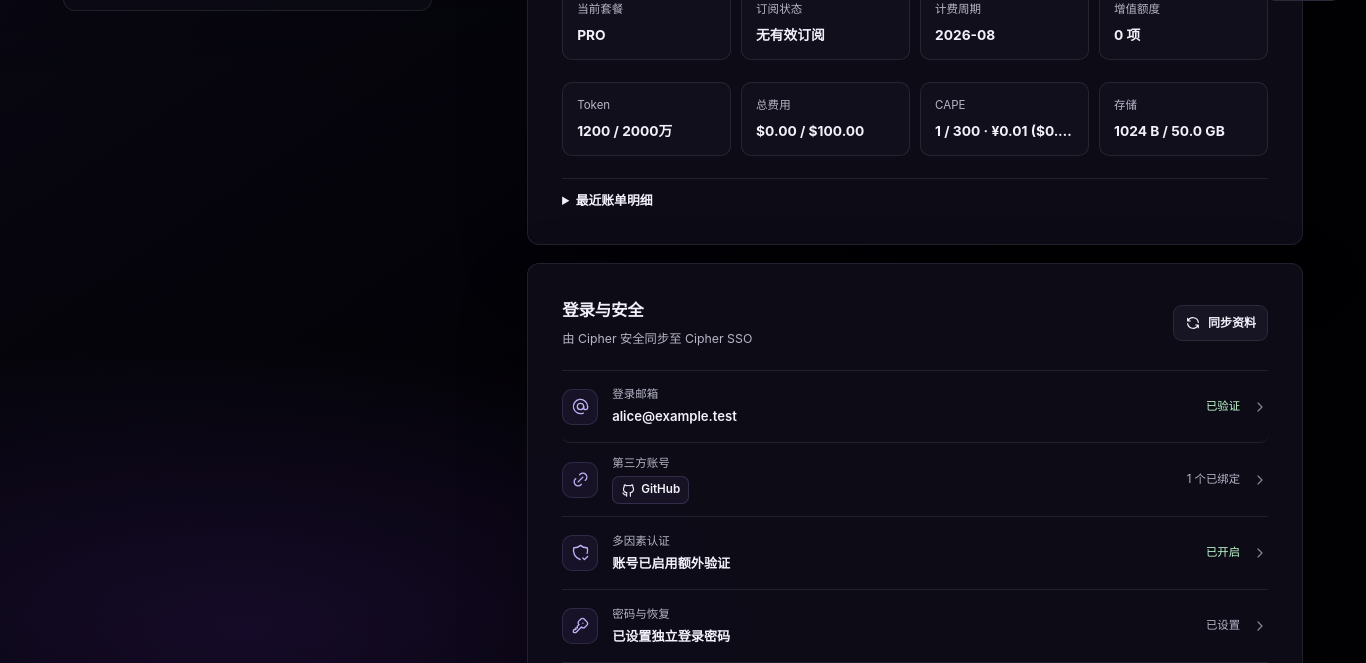
AccountPage › refreshes the account from Casdoor on demand
(page scrolled)
Click the button "同步资料". click: coordinates (1220, 323)
box: 1173,305 -> 1268,341
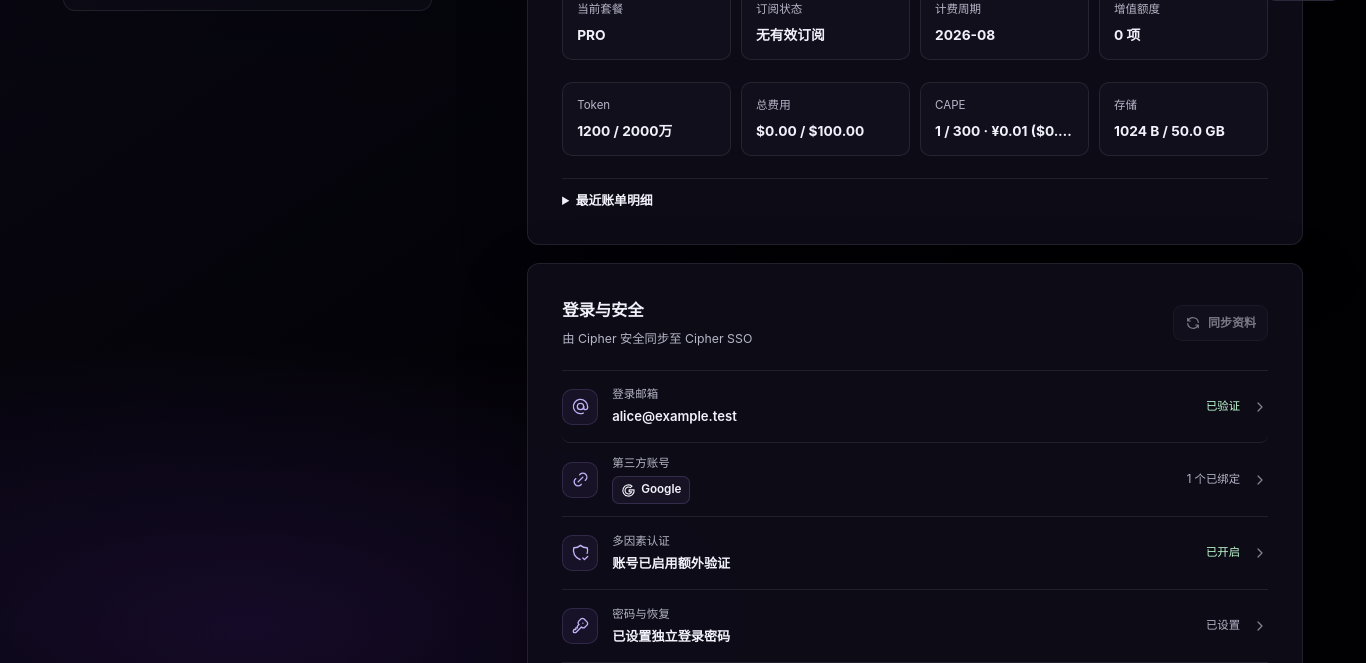
Expected: the text "Google" is shown, 612,476 -> 690,504
